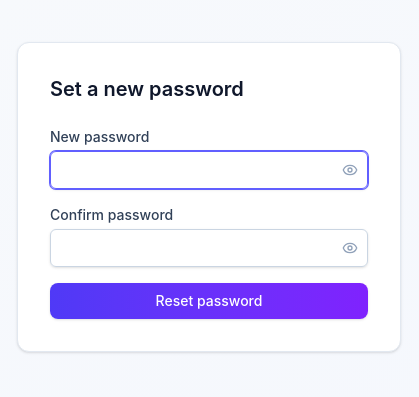
ResetPasswordPage › requires a password of at least 8 characters
The image size is (419, 397).
Type "short" into the password field labelled "New password" at (209, 170), box [50, 151, 368, 189]
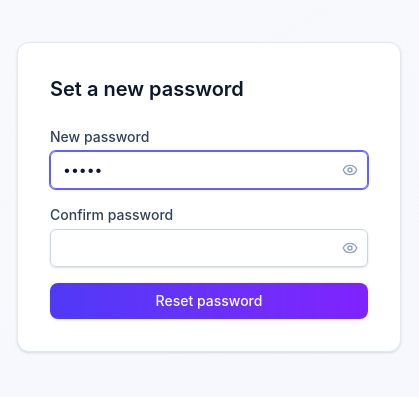
Type "short" into the password field labelled "Confirm password" at (209, 248), box [50, 229, 368, 267]
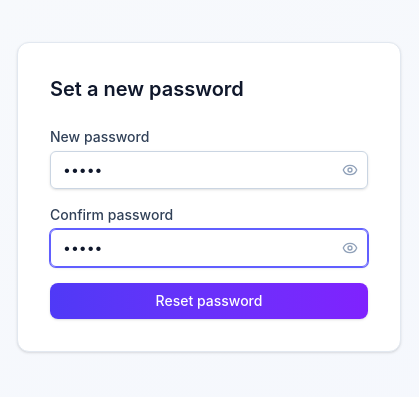
Click the button "Reset password" at (209, 301), box [50, 283, 368, 319]
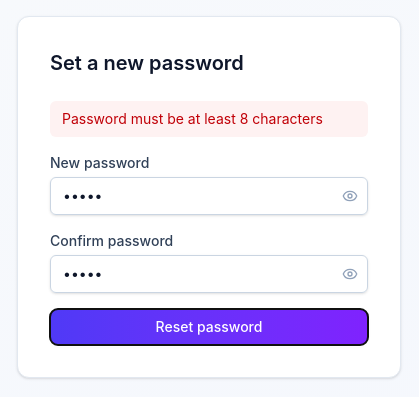
Check: the message shows "at least 8 characters", box [62, 110, 323, 127]
